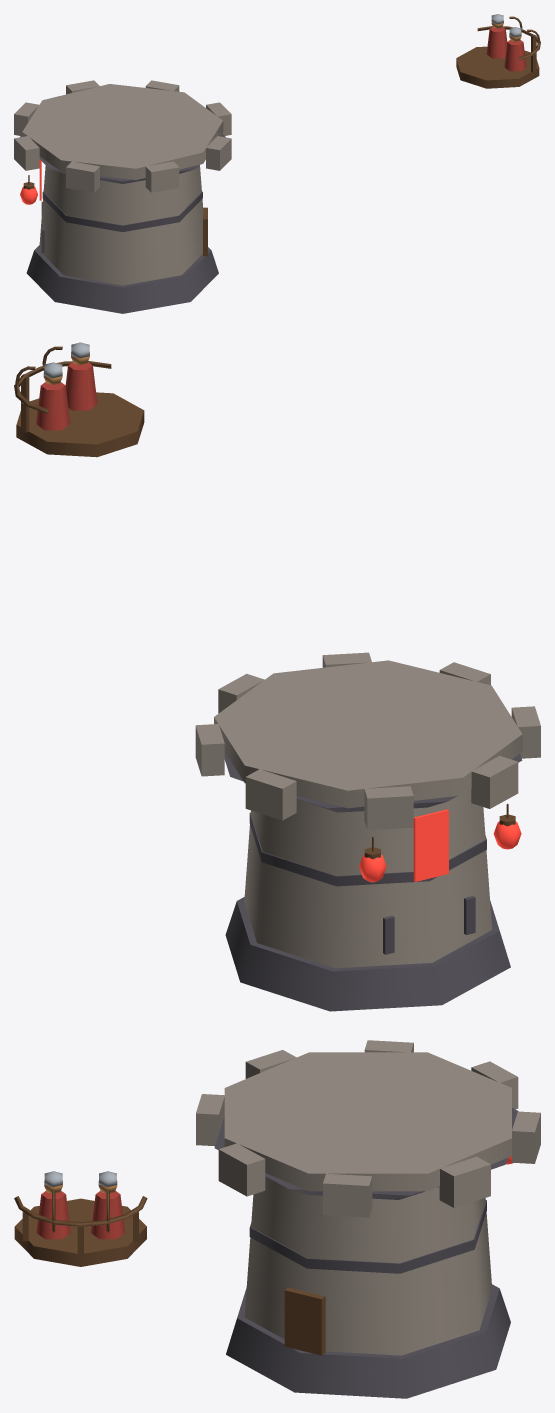
File: base_standard_weapon_1.glb
The picture shows the model from 3 angles, top to bottom: view 1: azimuth 30°, elevation 25°; view 2: azimuth 150°, elevation 25°; view 3: azimuth 270°, elevation 25°; orthographic projection. The views are drawn at different scales.
Parts seen in each view (by area): view 1: tower_slot_1_tower, tower_slot_1_plate, tower_slot_1_footing, weapon_mount, tower_slot_1_band, tower_slot_1_merlon_5, tower_slot_1_merlon_6, tower_slot_1_merlon_4, tower_slot_1_merlon_7, archer_r_body, archer_l_body, tower_slot_1_merlon_0 (+2 smaller); view 2: tower_slot_1_plate, tower_slot_1_tower, tower_slot_1_footing, weapon_mount, tower_slot_1_banner, tower_slot_1_band, tower_slot_1_merlon_1, tower_slot_1_merlon_0, tower_slot_1_merlon_7, tower_slot_1_merlon_2, archer_l_body, archer_r_body (+3 smaller); view 3: tower_slot_1_plate, tower_slot_1_tower, tower_slot_1_footing, weapon_mount, tower_slot_1_band, tower_slot_1_door, tower_slot_1_merlon_2, tower_slot_1_merlon_3, tower_slot_1_merlon_4, tower_slot_1_merlon_1, tower_slot_1_merlon_5, archer_l_body (+6 smaller).
Part boxes in pixels (x1,y1,x2,y2): tower_slot_1_tower: (39,165,203,285); tower_slot_1_plate: (22,84,223,180); tower_slot_1_footing: (26,245,218,313); weapon_mount: (456,46,539,88); tower_slot_1_band: (42,191,202,232); tower_slot_1_merlon_5: (145,161,179,192); tower_slot_1_merlon_6: (66,161,99,192); tower_slot_1_merlon_4: (206,136,231,170); tower_slot_1_merlon_7: (14,136,39,170); archer_r_body: (504,40,526,71); archer_l_body: (486,27,507,58); tower_slot_1_merlon_0: (14,102,39,135); tower_slot_1_plate: (214,660,522,808); tower_slot_1_tower: (244,789,492,968); tower_slot_1_footing: (225,897,510,1011); weapon_mount: (16,392,144,457); tower_slot_1_banner: (413,809,448,881); tower_slot_1_band: (249,812,486,886); tower_slot_1_merlon_1: (245,769,296,820); tower_slot_1_merlon_0: (364,786,413,830); tower_slot_1_merlon_7: (471,756,518,808); tower_slot_1_merlon_2: (195,724,224,776); archer_l_body: (36,382,70,430); archer_r_body: (65,362,97,410); tower_slot_1_plate: (224,1052,511,1191); tower_slot_1_tower: (244,1176,492,1355); tower_slot_1_footing: (226,1284,510,1398); weapon_mount: (14,1198,146,1266); tower_slot_1_band: (249,1200,486,1273); tower_slot_1_door: (284,1287,325,1355); tower_slot_1_merlon_2: (439,1156,490,1207); tower_slot_1_merlon_3: (323,1173,372,1217); tower_slot_1_merlon_4: (218,1143,265,1196); tower_slot_1_merlon_1: (511,1111,540,1163); tower_slot_1_merlon_5: (196,1094,224,1146); archer_l_body: (91,1191,124,1239).
Size of the model in its own units: 0.9528 by 0.5449 by 0.678.
